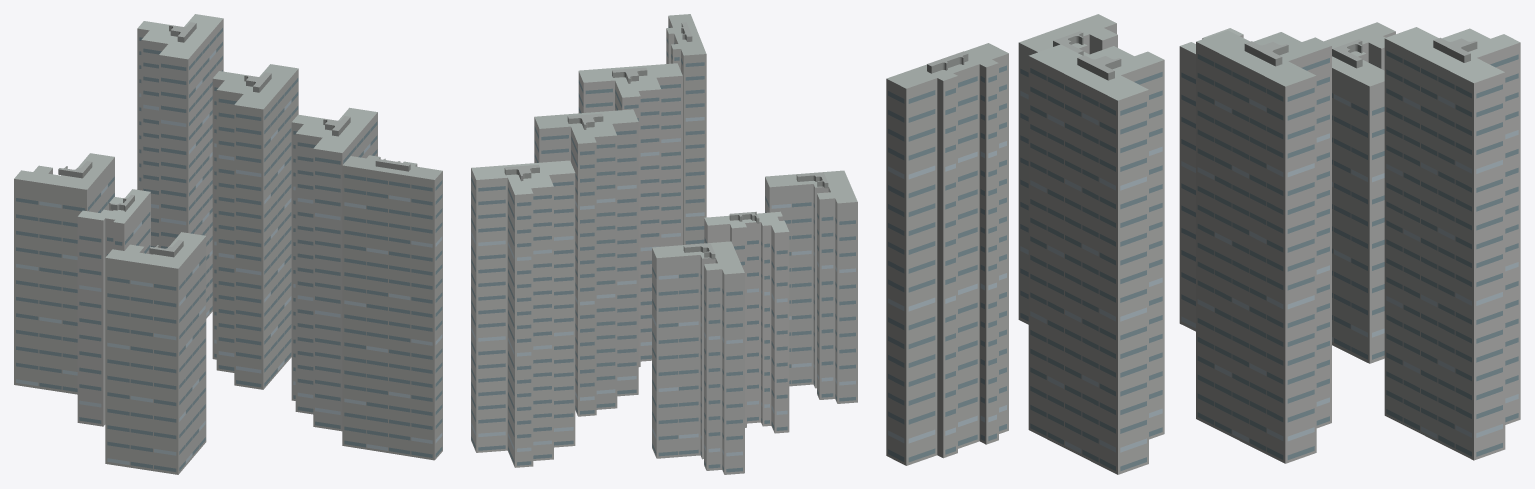
Rendered from apt-a10022919.glb.
The picture shows the model from 3 angles, left to right: view 1: azimuth 30°, elevation 25°; view 2: azimuth 150°, elevation 25°; view 3: azimuth 270°, elevation 25°; orthographic projection. The views are drawn at different scales.
Visible parts, largest first — view 1: apt-a10022919; view 2: apt-a10022919; view 3: apt-a10022919.
Boxes of the visible parts, x1,y1,x2,y2 form: apt-a10022919: (14,14,442,474); apt-a10022919: (471,14,857,474); apt-a10022919: (886,14,1520,474).
Size of the model in its own units: 130 by 127 by 190.
